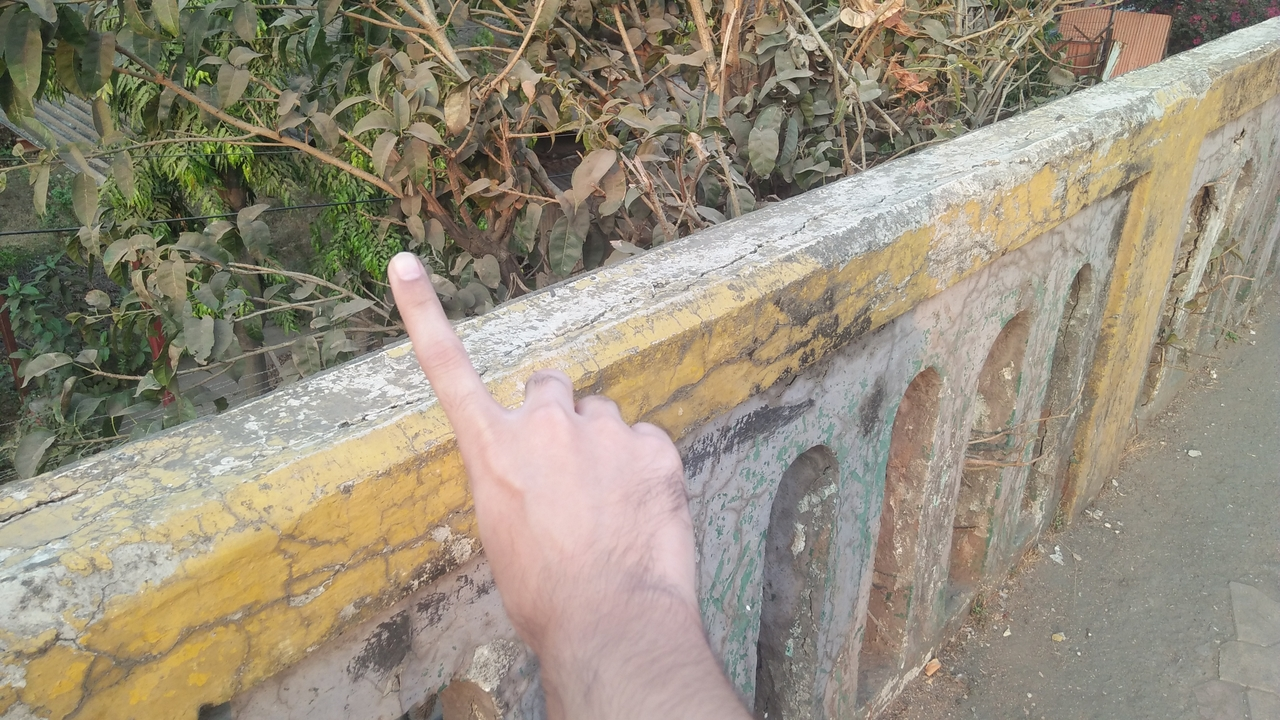fingertip: (378, 242, 432, 304)
